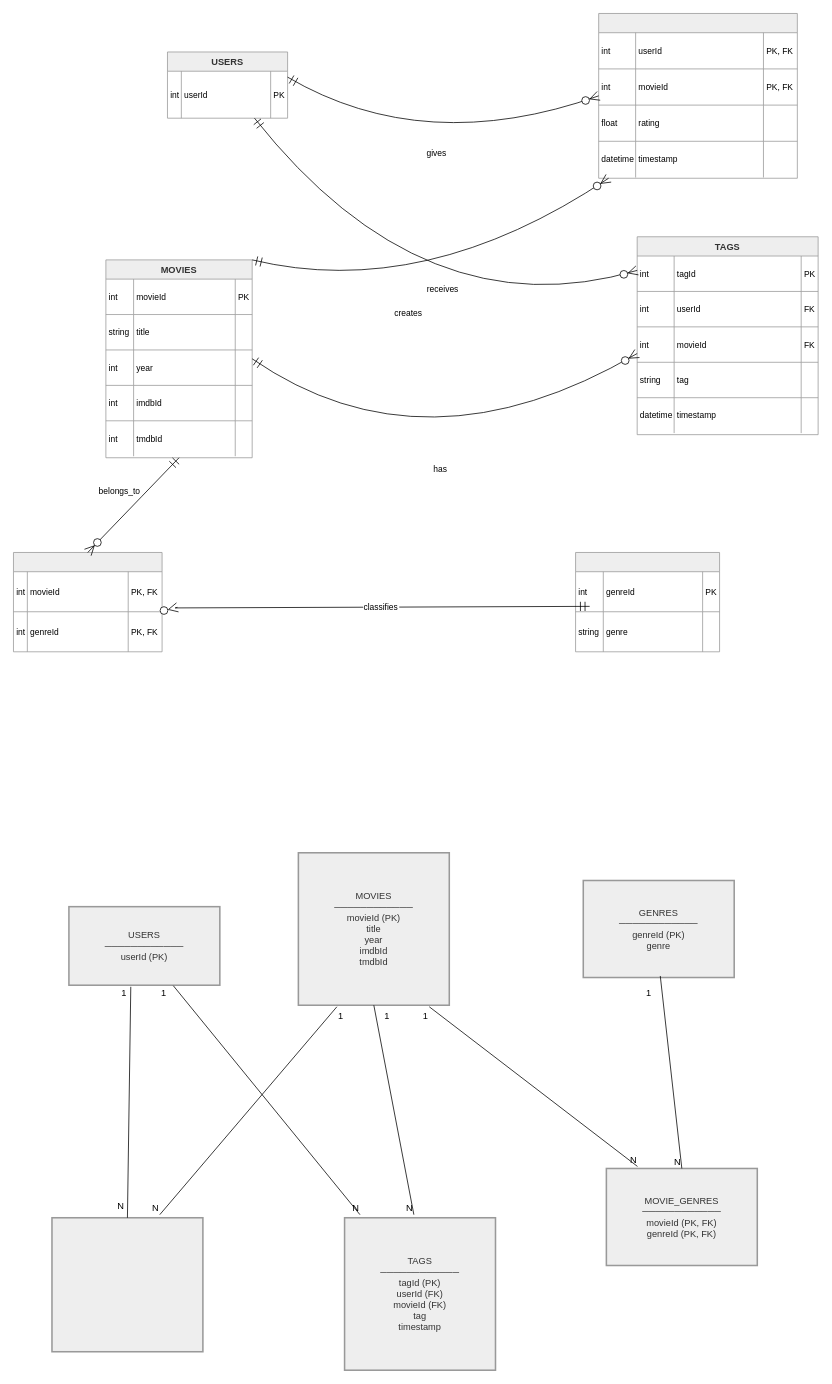
The diagram is 832 pixels wide and 1384 high, and some of its shapes have lost their labels. Here are the shapes that lost their labels. From the top down, the box of each, then its label:
(598, 13, 797, 178): RATINGS
(13, 552, 162, 652): MOVIE_GENRES
(575, 552, 720, 652): GENRES
(51, 1217, 203, 1352): RATINGS ──────────── userId (PK, FK) movieId (PK, FK) rating timestamp
